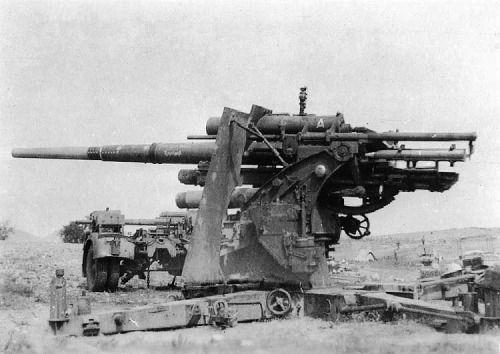MIL_SPG: (12, 88, 476, 296)
